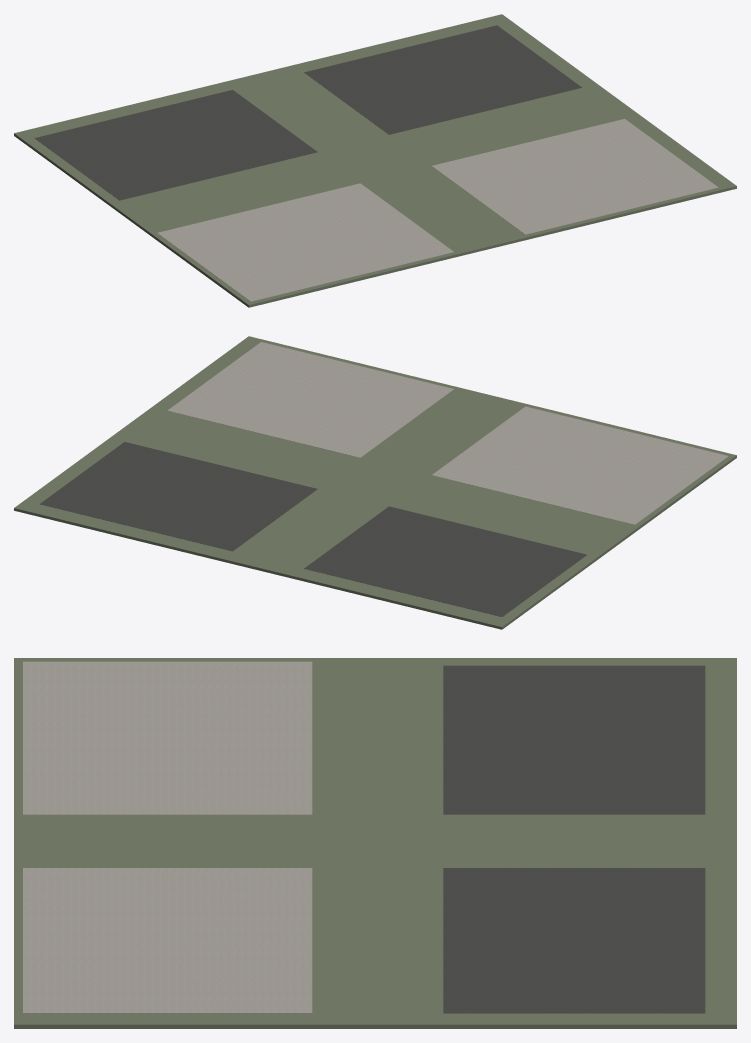
The model's file is city_ground.glb.
3 views of the same model, one above another, from view 1: azimuth 30°, elevation 25°; view 2: azimuth 150°, elevation 25°; view 3: azimuth 270°, elevation 25° (orthographic). The views are drawn at different scales.
Parts seen in each view (by area): view 1: city_ground; view 2: city_ground; view 3: city_ground.
Part boxes in pixels (x1,y1,x2,y2): city_ground: (14, 14, 736, 307); city_ground: (14, 336, 736, 629); city_ground: (14, 658, 736, 1028).
Size of the model in its own units: 192 by 1.05 by 160.
